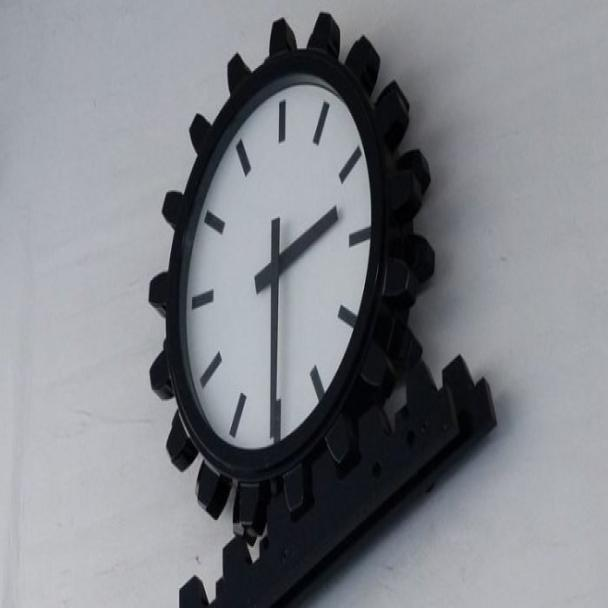Jam: (150, 11, 392, 467)
